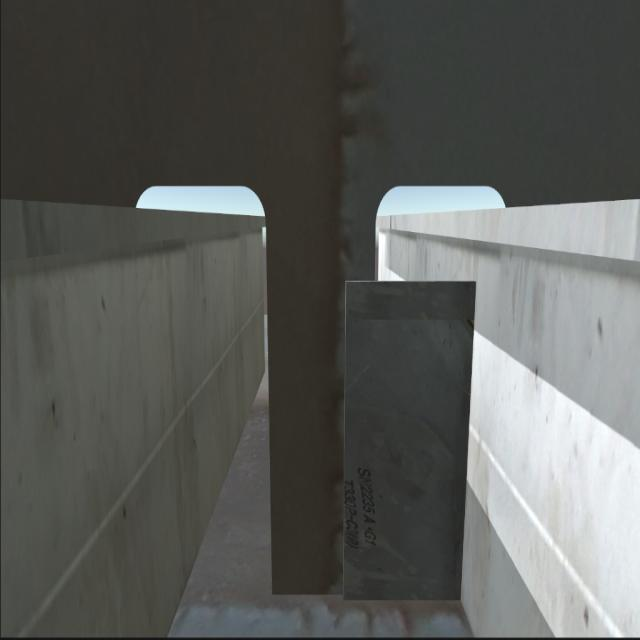fillet_yong_jeop_jang: (271, 580, 473, 612)
longi_yong_jeop_jang: (457, 275, 477, 613)
plate_CP01: (340, 276, 468, 607)
